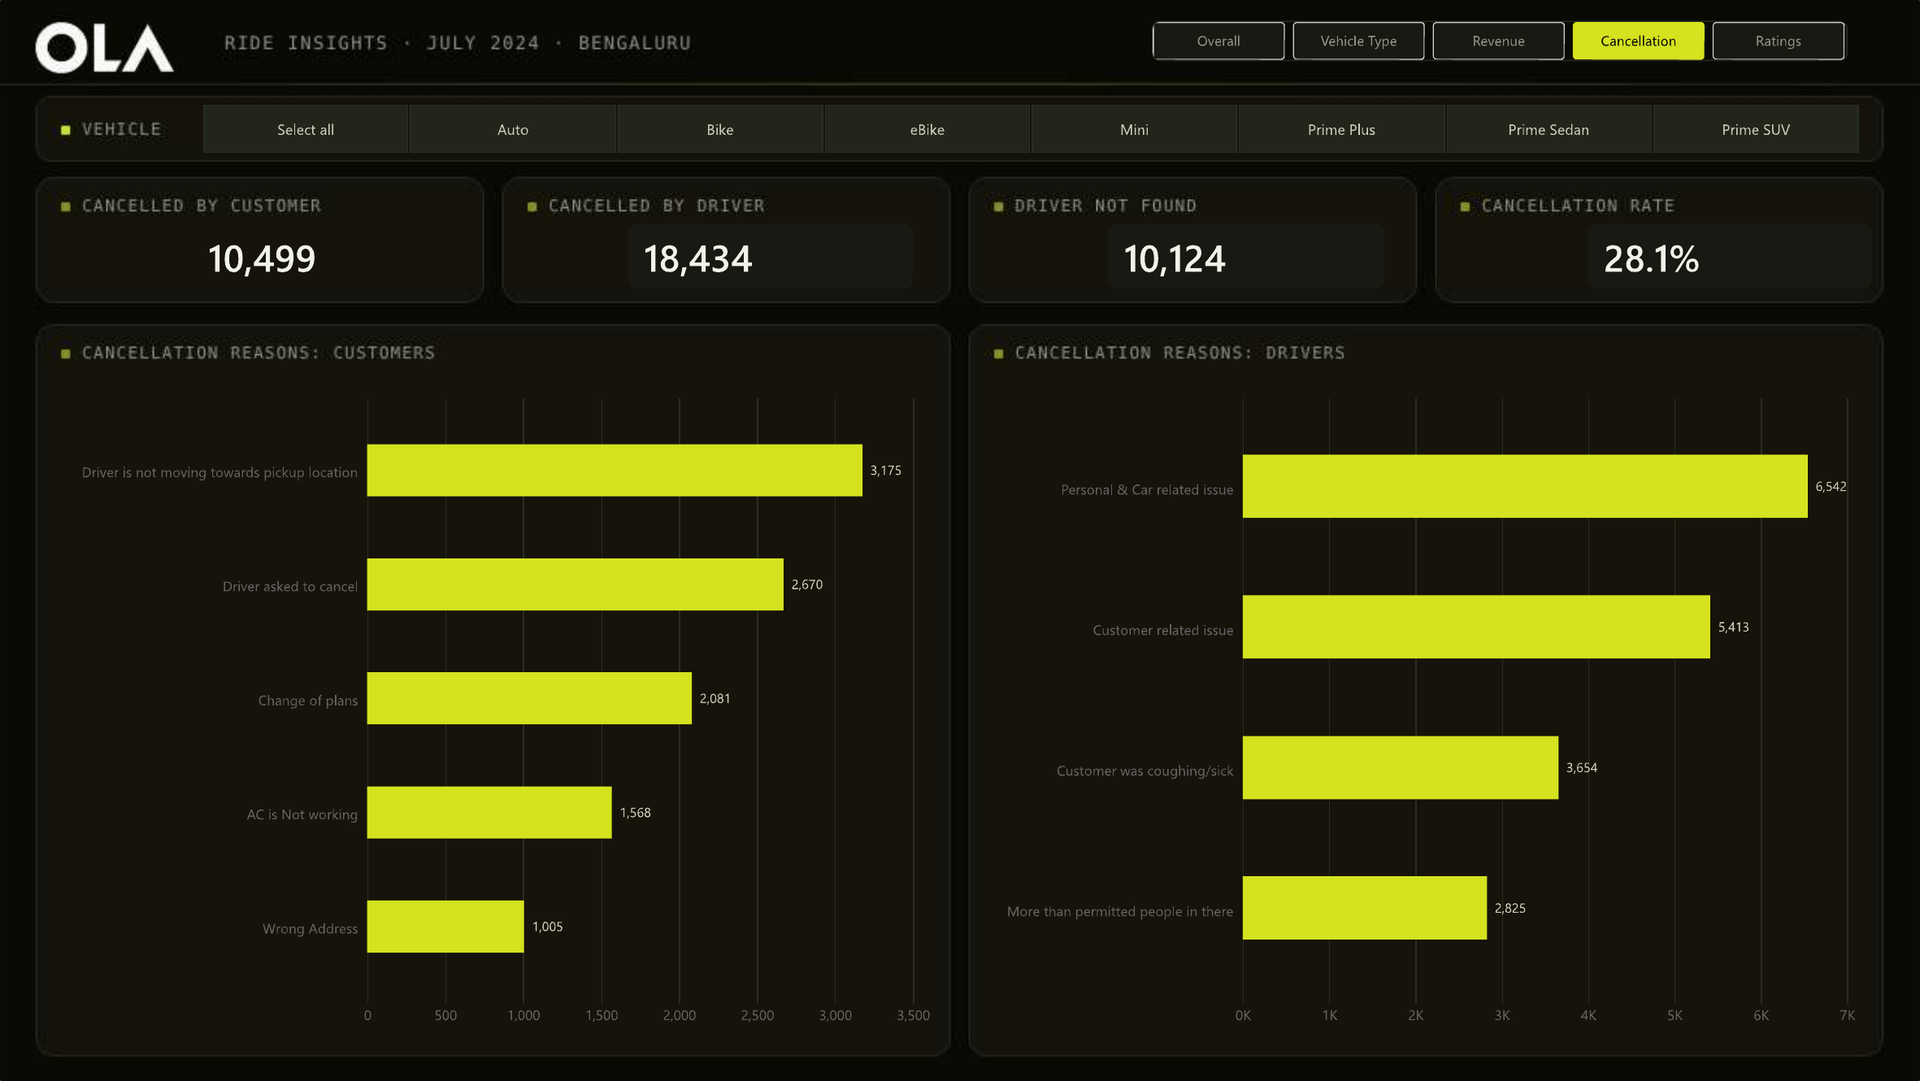

Layout of this report page (visuals, bound fields, positions):
{"tool":"powerbi","page":{"name":"Cancellation","canvas":[1920,1080],"ordinal":3},"visuals":[{"type":"cardVisual","fields":{"Data":["_Measures.Cancelled by Customer"]},"box":[191.7,223.3,263.3,65],"z":0},{"type":"cardVisual","fields":{"Data":["_Measures.Cancelled by Driver"]},"box":[628.3,223.3,285,65],"z":1000},{"type":"cardVisual","fields":{"Data":["_Measures.Driver Not Found"]},"box":[1108.3,223.3,276.7,65],"z":2000},{"type":"cardVisual","fields":{"Data":["_Measures.Cancellation Rate %"]},"box":[1588.3,223.3,283.3,65],"z":3000},{"type":"clusteredBarChart","fields":{"Category":["ola_db bookings.Canceled_Rides_by_Customer"],"Y":["_Measures.Total Rides"]},"box":[44,376,902,670],"z":4000},{"type":"clusteredBarChart","fields":{"Category":["ola_db bookings.Canceled_Rides_by_Driver"],"Y":["_Measures.Total Rides"]},"box":[974,376,898,670],"z":5000},{"type":"slicer","fields":{"Values":["ola_db bookings.Vehicle_Type"]},"box":[182,102,1696,52],"z":6000},{"type":"pageNavigator","box":[1152,20,696,40],"z":7000}]}

Visuals, with their boxes in screenshot pixels (x1, y1, x2, y2), scaled from the page's 1920x1080 canvas onto the 1920x1081 screenshot:
cardVisual - _Measures.Cancelled by Customer: [x1=192, y1=224, x2=455, y2=289]
cardVisual - _Measures.Cancelled by Driver: [x1=628, y1=224, x2=913, y2=289]
cardVisual - _Measures.Driver Not Found: [x1=1108, y1=224, x2=1385, y2=289]
cardVisual - _Measures.Cancellation Rate %: [x1=1588, y1=224, x2=1872, y2=289]
clusteredBarChart - ola_db bookings.Canceled_Rides_by_Customer x _Measures.Total Rides: [x1=44, y1=376, x2=946, y2=1047]
clusteredBarChart - ola_db bookings.Canceled_Rides_by_Driver x _Measures.Total Rides: [x1=974, y1=376, x2=1872, y2=1047]
slicer - ola_db bookings.Vehicle_Type: [x1=182, y1=102, x2=1878, y2=154]
pageNavigator: [x1=1152, y1=20, x2=1848, y2=60]
